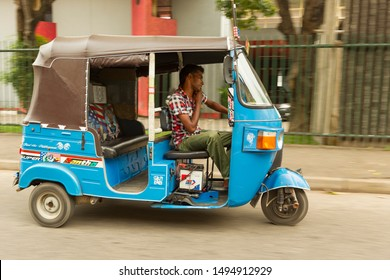threewheel: (15, 34, 310, 228)
